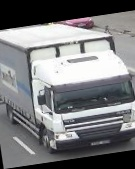truck: (0, 14, 135, 162)
